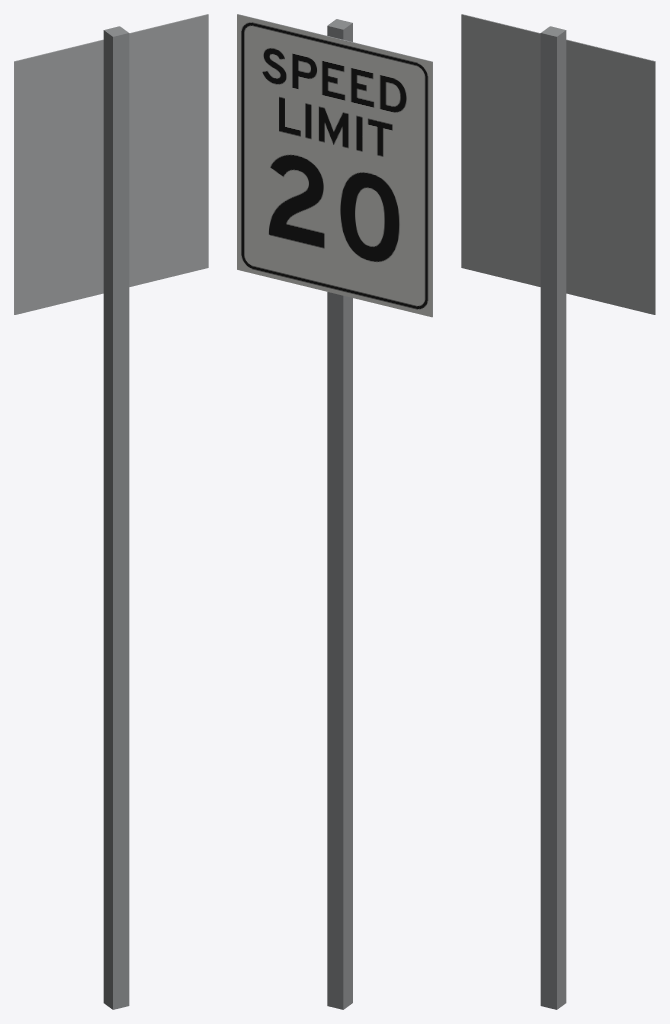
File: sign_r2-1_speed_20.glb
The picture shows the model from 3 angles, left to right: view 1: azimuth 30°, elevation 25°; view 2: azimuth 150°, elevation 25°; view 3: azimuth 330°, elevation 25°; orthographic projection.
Parts seen in each view (by area): view 1: sign_r2-1_speed_20; view 2: sign_r2-1_speed_20; view 3: sign_r2-1_speed_20.
Boxes of the visible parts, bbox=[...] form: sign_r2-1_speed_20: bbox=[14, 14, 208, 1009]; sign_r2-1_speed_20: bbox=[237, 14, 432, 1009]; sign_r2-1_speed_20: bbox=[461, 14, 655, 1009].
Bounding box in the file's own units: 0.6096 × 2.93 × 0.0543.
3 materials, 1 textured.
